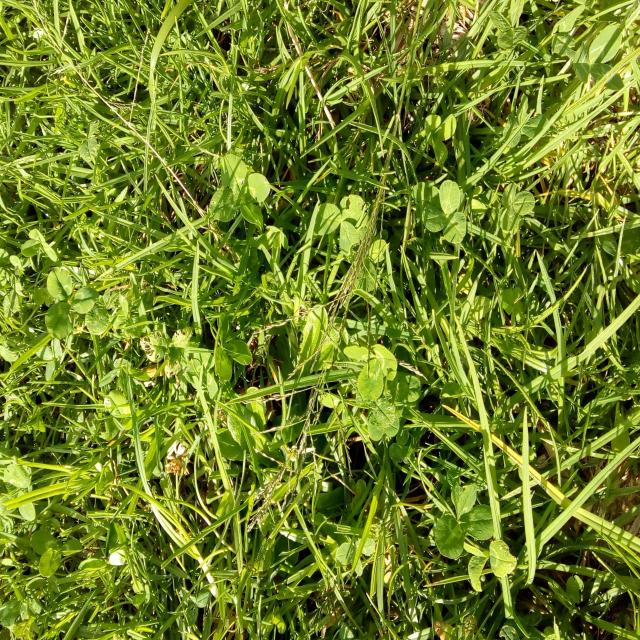Four Leaf Clover: (209, 153, 270, 232)
